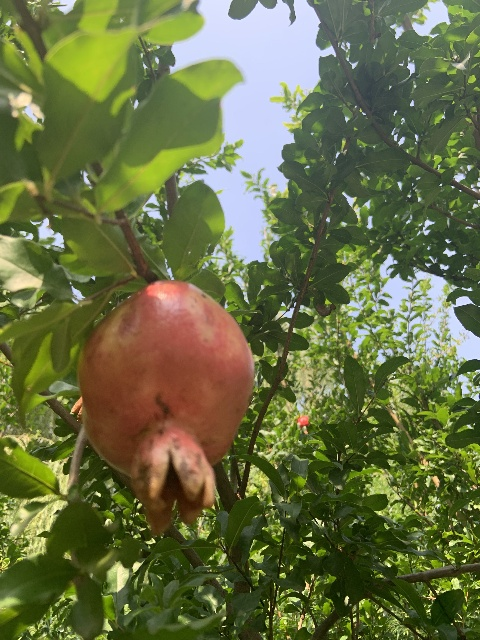ripe: (75, 279, 255, 534)
